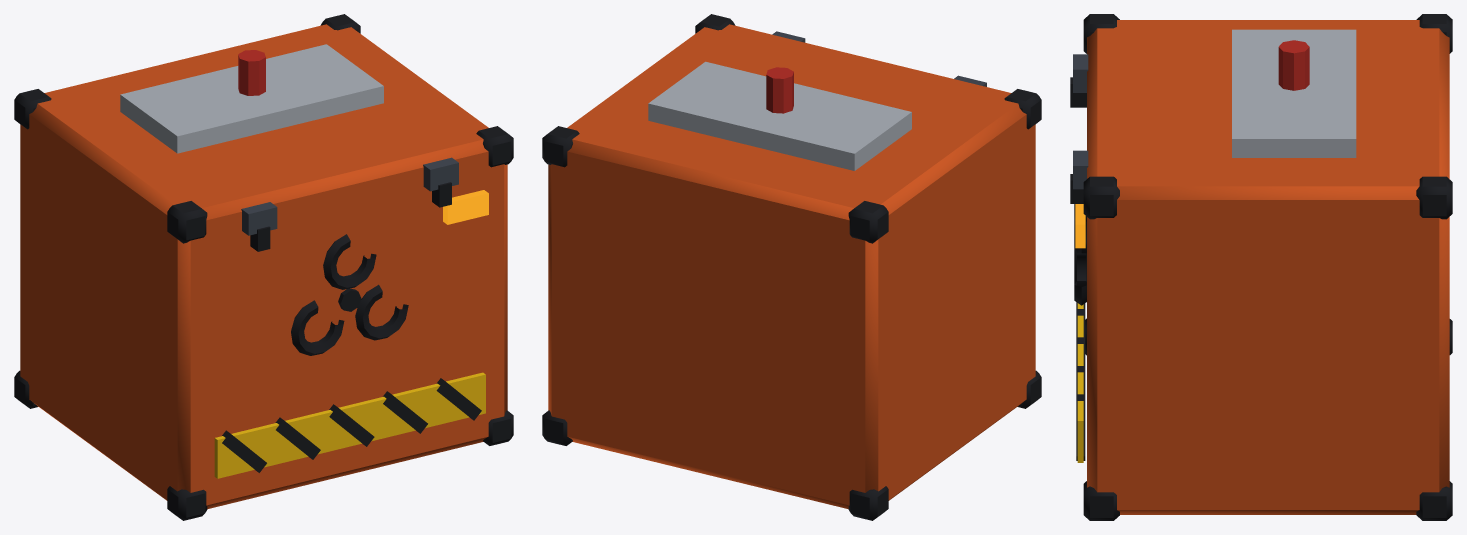
The model's file is crate_biohazard.glb.
3 renders of one model, left to right at view 1: azimuth 30°, elevation 25°; view 2: azimuth 150°, elevation 25°; view 3: azimuth 270°, elevation 25°, orthographic. The views are drawn at different scales.
Visible parts, largest first — view 1: crate_biohazard; view 2: crate_biohazard; view 3: crate_biohazard.
Boxes of the visible parts, x1,y1,x2,y2 form: crate_biohazard: [14, 14, 513, 520]; crate_biohazard: [542, 14, 1041, 520]; crate_biohazard: [1070, 14, 1452, 520].
Bounding box in the file's own units: 0.812 × 0.826 × 0.738.
